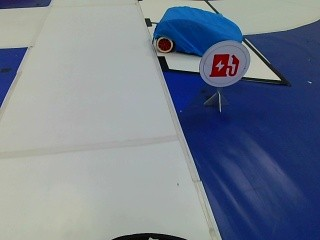battery: (203, 46, 244, 83)
car: (148, 6, 243, 52)
